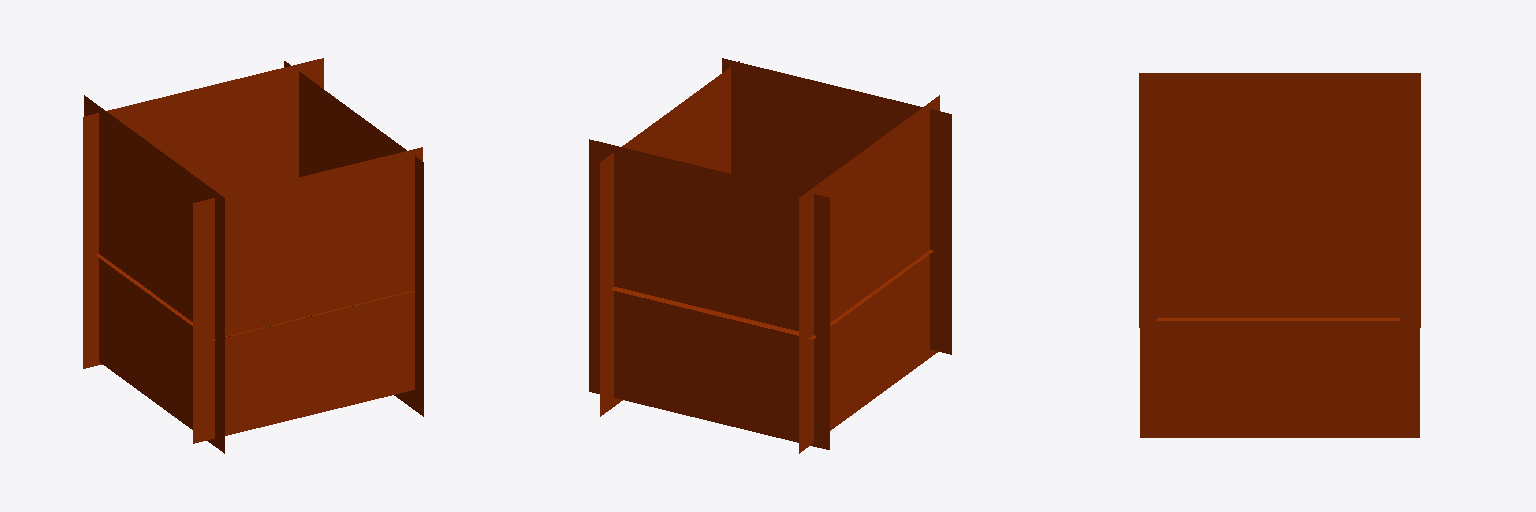
Rendered from scena4.obj.
The picture shows the model from 3 angles: view 1: azimuth 30°, elevation 25°; view 2: azimuth 150°, elevation 25°; view 3: azimuth 270°, elevation 25°; orthographic projection.
Parts seen in each view (by area): view 1: Plane.009, Plane.003, Plane.007, Plane.005, Plane.001_Plane.016; view 2: Plane.007, Plane.003, Plane.009, Plane.005, Plane.001_Plane.016; view 3: Plane.005, Plane.003, Plane.001_Plane.016.
Part boxes in pixels (x1,y1,x2,y2): Plane.009: (193,147,422,443); Plane.003: (84,95,224,453); Plane.007: (83,58,323,368); Plane.005: (284,61,423,416); Plane.001_Plane.016: (96,254,414,340); Plane.007: (589,139,829,449); Plane.003: (799,95,939,453); Plane.009: (722,58,951,354); Plane.005: (600,61,739,416); Plane.001_Plane.016: (610,250,933,338); Plane.005: (1140,183,1419,437); Plane.003: (1139,73,1420,327); Plane.001_Plane.016: (1157,318,1399,320).
Bounding box in the file's own units: 87.99 × 91.08 × 86.91.